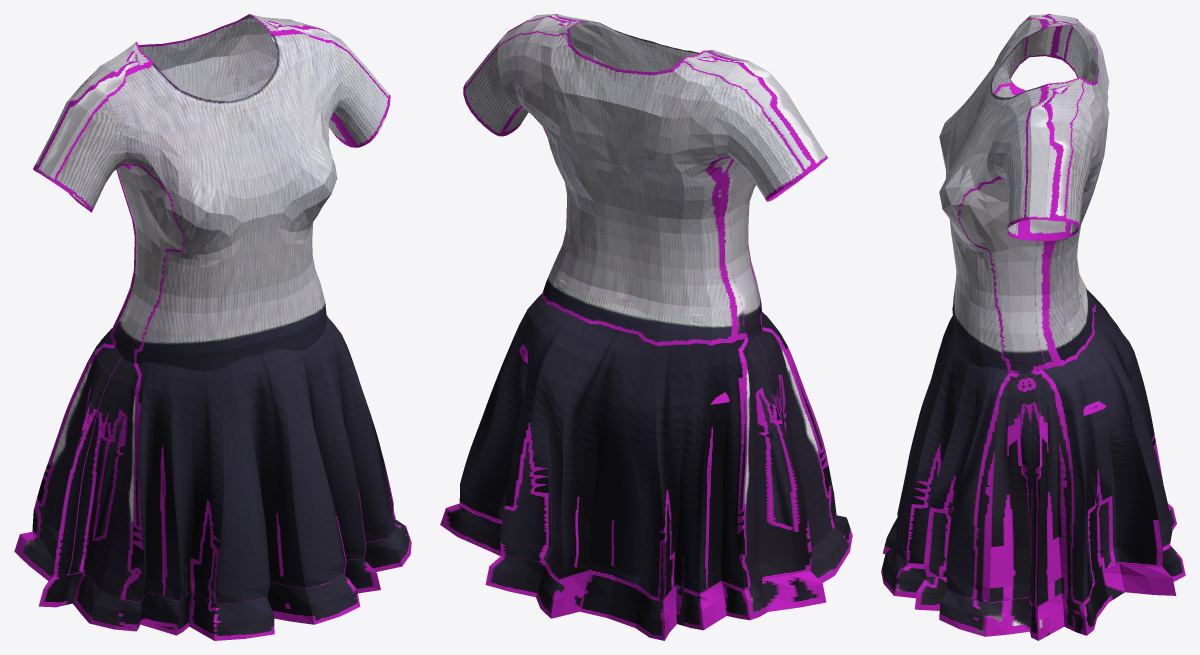
The picture shows the model from 3 angles, left to right: view 1: azimuth 30°, elevation 25°; view 2: azimuth 150°, elevation 25°; view 3: azimuth 270°, elevation 25°; orthographic projection. The views are drawn at different scales.
Size of the model in its own units: 0.7283 by 1.06 by 0.5549.
1 material, 1 textured.
